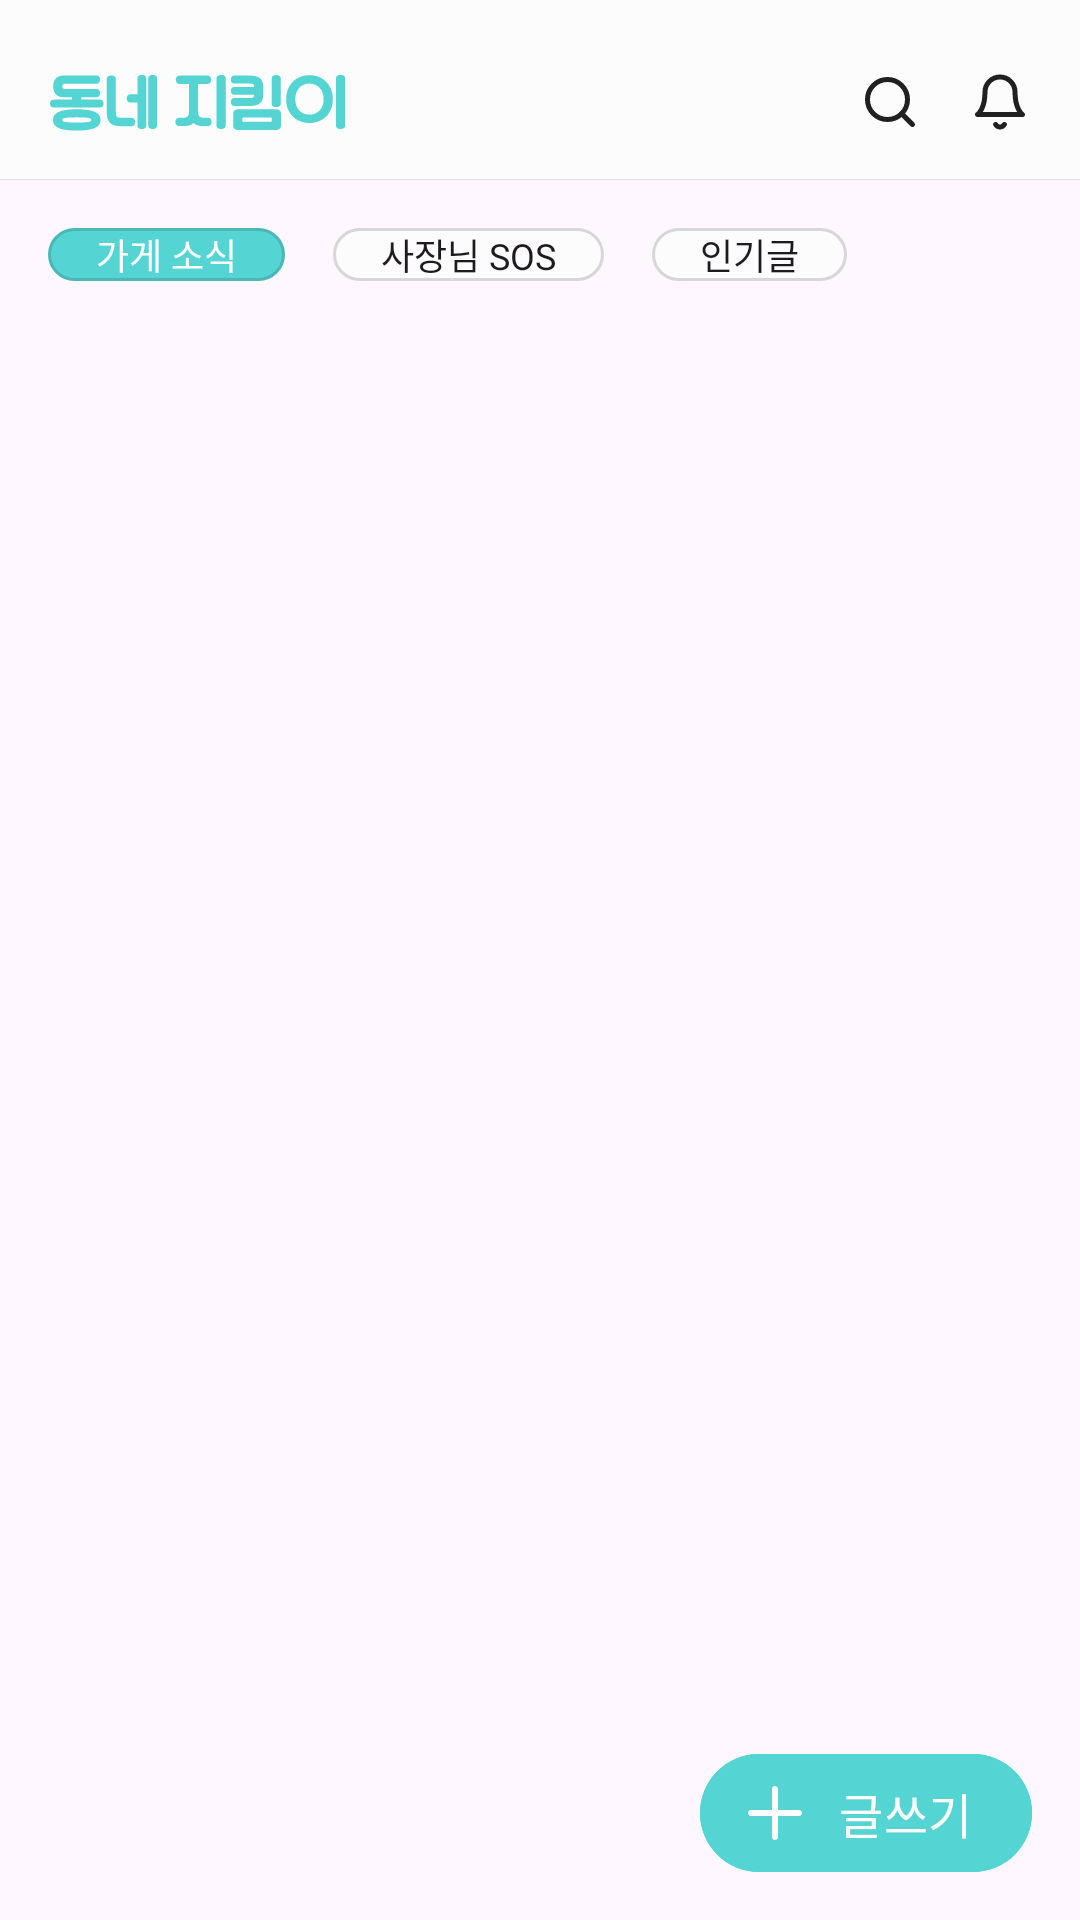

Named icons in this screenshot (1080 × 1920) and their bounding boxes, (x1, y1, x2, y2):
bell: (975, 74, 1025, 130)
search: (865, 77, 915, 127)
